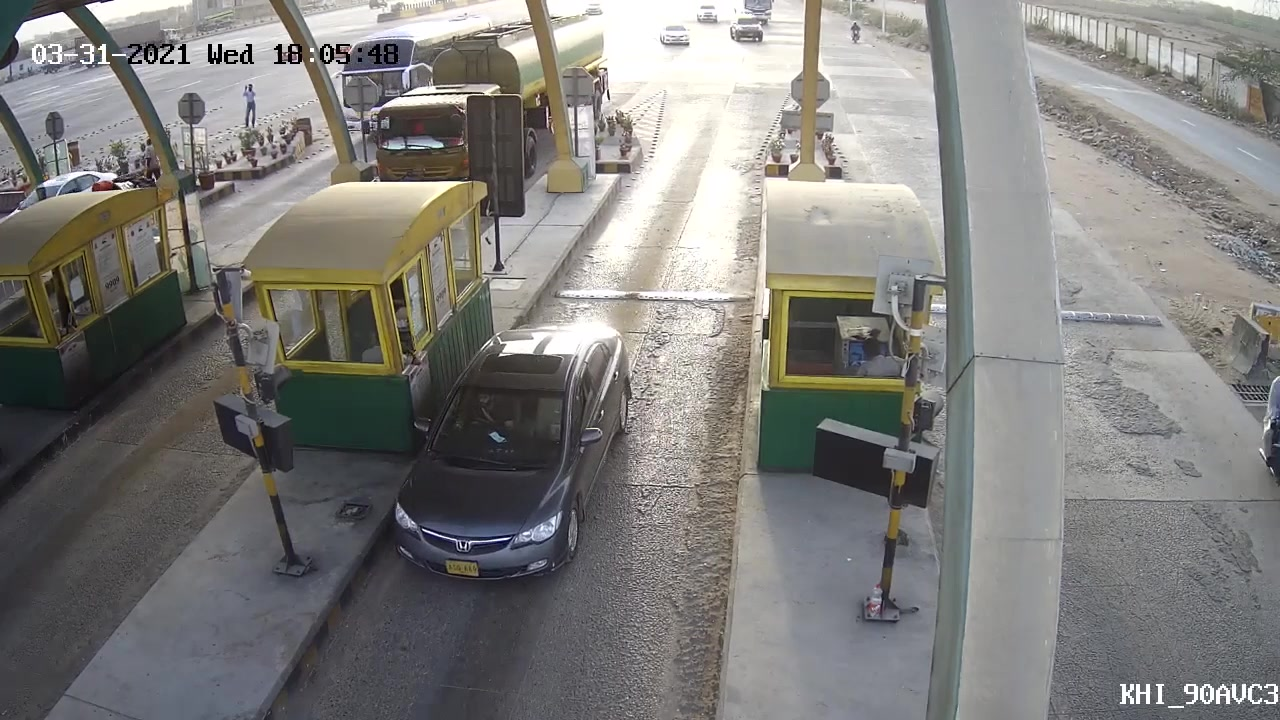F1: (380, 316, 639, 592)
